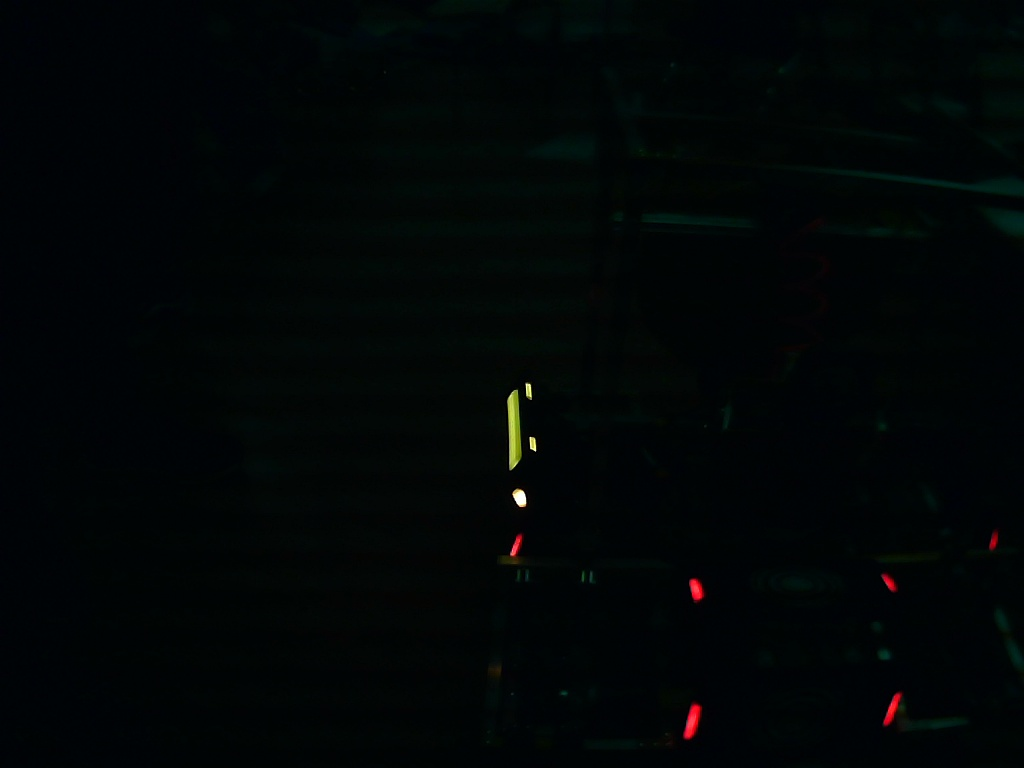lamp: (681, 700, 706, 742), (881, 689, 907, 729)
